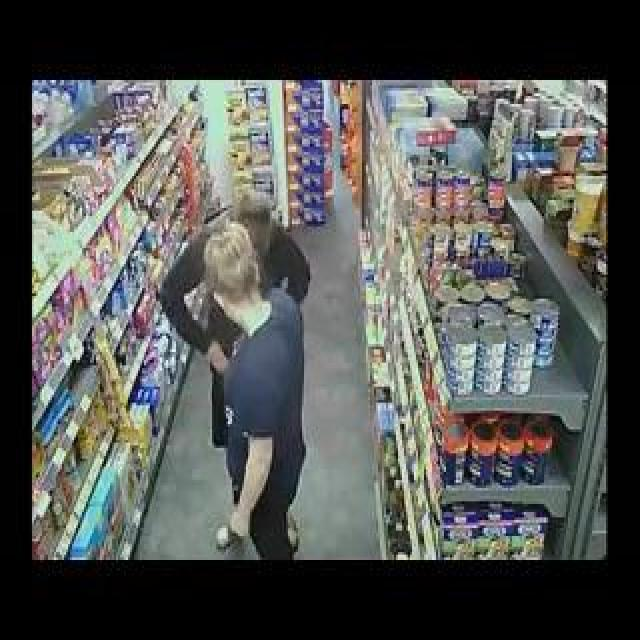Shoplifting: (145, 183, 356, 562)
